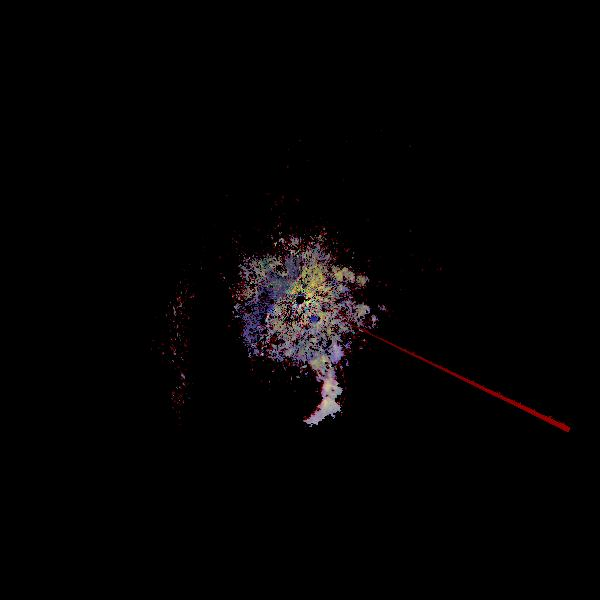roost: (246, 328, 360, 442)
